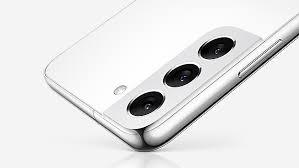Smartphone: (57, 0, 299, 146)
